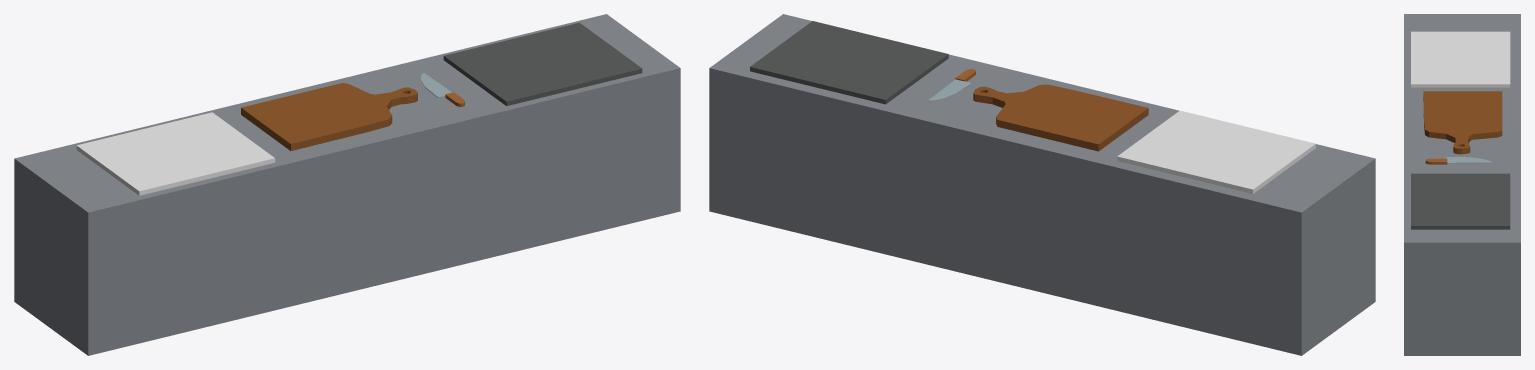
File: EvenMoreEquipment.fbx
The picture shows the model from 3 angles, left to right: view 1: azimuth 30°, elevation 25°; view 2: azimuth 150°, elevation 25°; view 3: azimuth 270°, elevation 25°; orthographic projection. The views are drawn at different scales.
Parts seen in each view (by area): view 1: table, platform 1, platform 2, cutting board, knife; view 2: table, platform 2, platform 1, cutting board, knife; view 3: table, platform 1, platform 2, cutting board, knife.
Part boxes in pixels (box(x1,y1,x2,y2)): table: box(14, 14, 680, 355); platform 1: box(76, 112, 275, 195); platform 2: box(443, 22, 642, 106); cutting board: box(241, 83, 417, 150); knife: box(420, 73, 464, 106); table: box(709, 14, 1375, 355); platform 2: box(750, 21, 948, 104); platform 1: box(1117, 110, 1315, 193); cutting board: box(973, 84, 1148, 151); knife: box(928, 69, 975, 101); table: box(1404, 14, 1520, 355); platform 1: box(1411, 31, 1510, 87); platform 2: box(1411, 173, 1510, 229); cutting board: box(1423, 91, 1502, 154); knife: box(1425, 157, 1492, 164).
Bounding box in the file's own units: 35.2 × 8.54 × 7.61.
